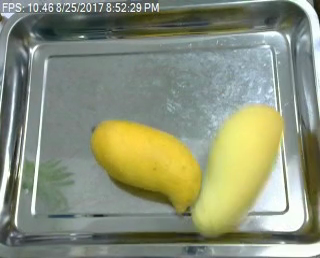Mango: (185, 97, 285, 234), (90, 118, 204, 215)
